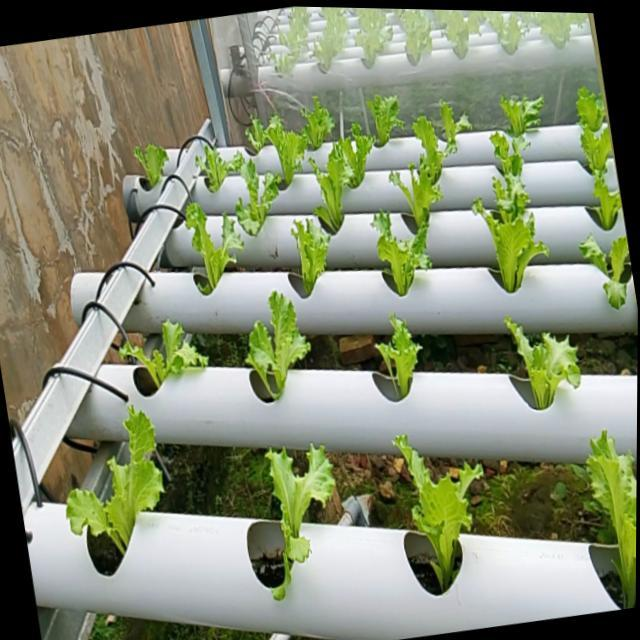Baby: (61, 400, 160, 549), (391, 430, 480, 588), (263, 443, 332, 596), (584, 429, 637, 609), (243, 285, 307, 394), (503, 314, 577, 407), (386, 135, 453, 232), (111, 311, 204, 380), (306, 136, 362, 233), (182, 197, 240, 290), (479, 210, 541, 291), (361, 86, 420, 171), (243, 111, 304, 184), (230, 152, 279, 234), (576, 234, 629, 308), (489, 148, 532, 236), (374, 310, 419, 394), (371, 210, 416, 294), (288, 215, 328, 294), (575, 96, 610, 176), (192, 137, 240, 190), (429, 100, 472, 156), (298, 94, 333, 149), (498, 96, 542, 137), (129, 137, 166, 179)
